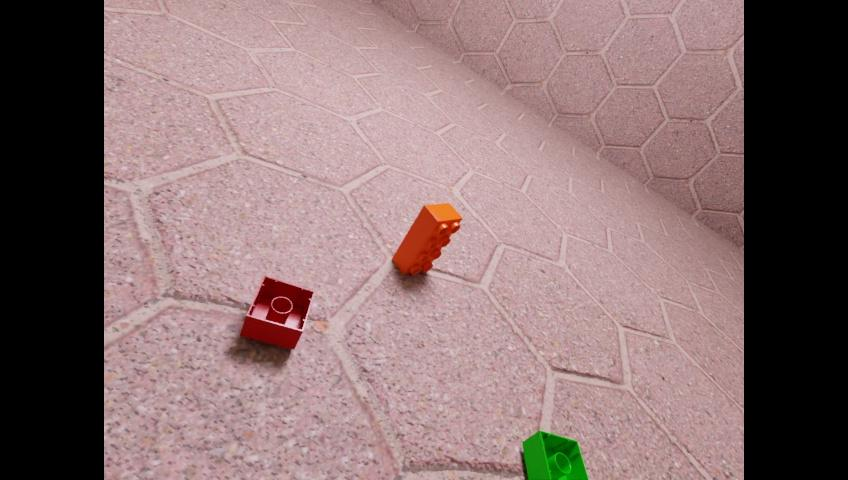2x2_green: (522, 429, 589, 480)
2x2_red: (239, 275, 314, 349)
4x2_orange: (392, 202, 462, 274)
